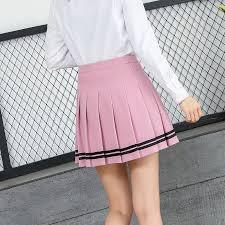skirt: (76, 58, 177, 168)
